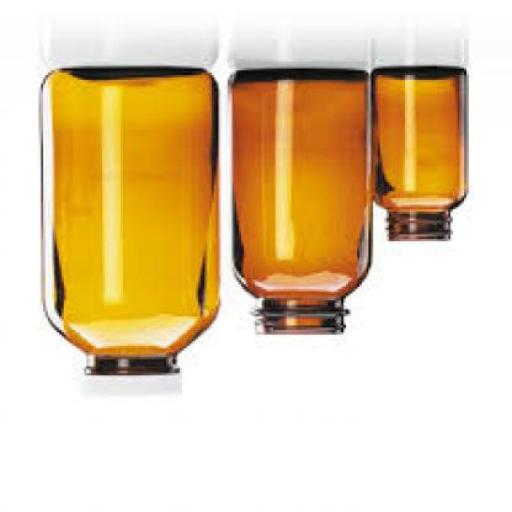glass: (39, 68, 216, 376), (228, 68, 368, 337), (369, 66, 467, 243)
plastic: (77, 376, 178, 398)
